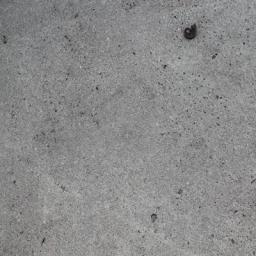FOD: (182, 22, 200, 42)
